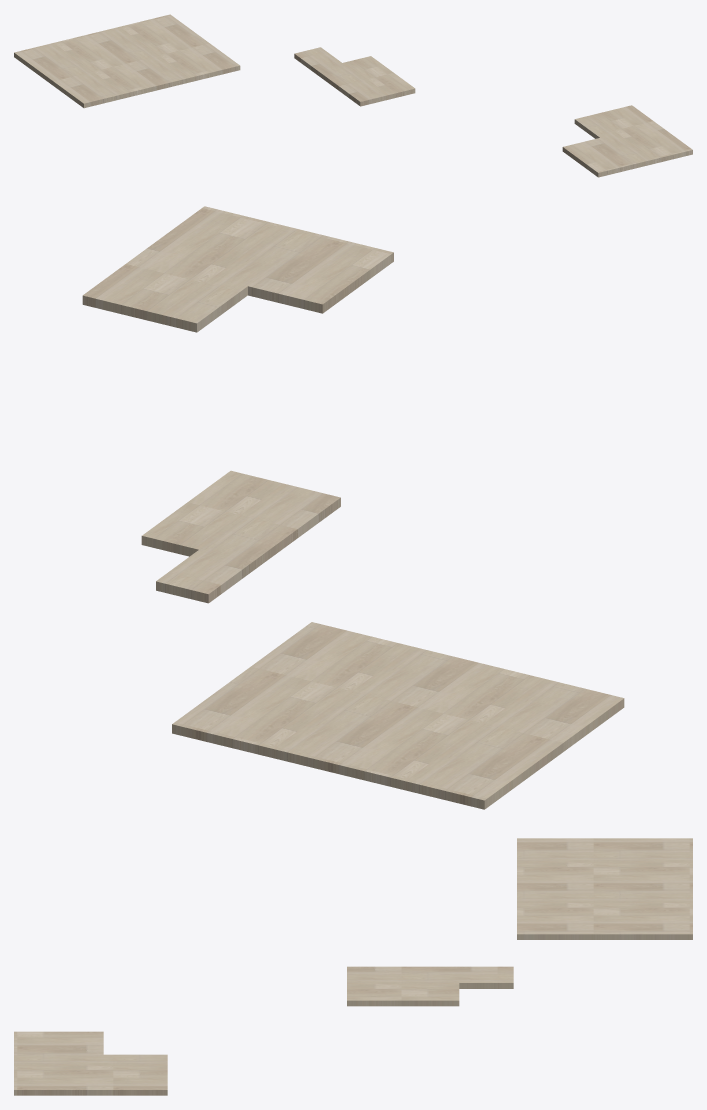
The model's file is Floor_LaytonLakeSilverDollar_.glb.
3 renders of one model, top to bottom at view 1: azimuth 30°, elevation 25°; view 2: azimuth 150°, elevation 25°; view 3: azimuth 270°, elevation 25°, orthographic. The views are drawn at different scales.
Visible parts, largest first — view 1: Floors_layton_lake_silver_dollar; view 2: Floors_layton_lake_silver_dollar; view 3: Floors_layton_lake_silver_dollar.
Boxes of the visible parts, bbox=[...] form: Floors_layton_lake_silver_dollar: bbox=[14, 14, 692, 177]; Floors_layton_lake_silver_dollar: bbox=[82, 206, 624, 809]; Floors_layton_lake_silver_dollar: bbox=[14, 838, 692, 1095].
Bounding box in the file's own units: 18.6 × 0.2 × 21.2.
Materials: 1 (1 with a texture image).
